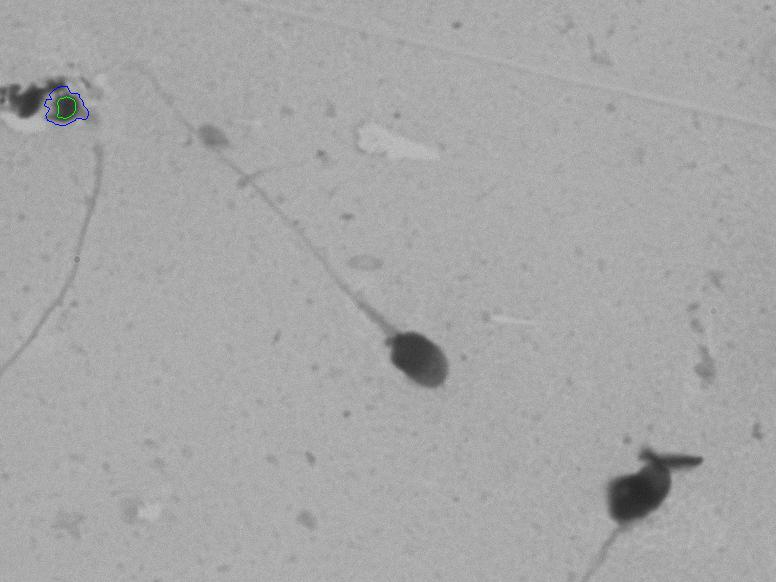Abnormal: (158, 47, 476, 437)
